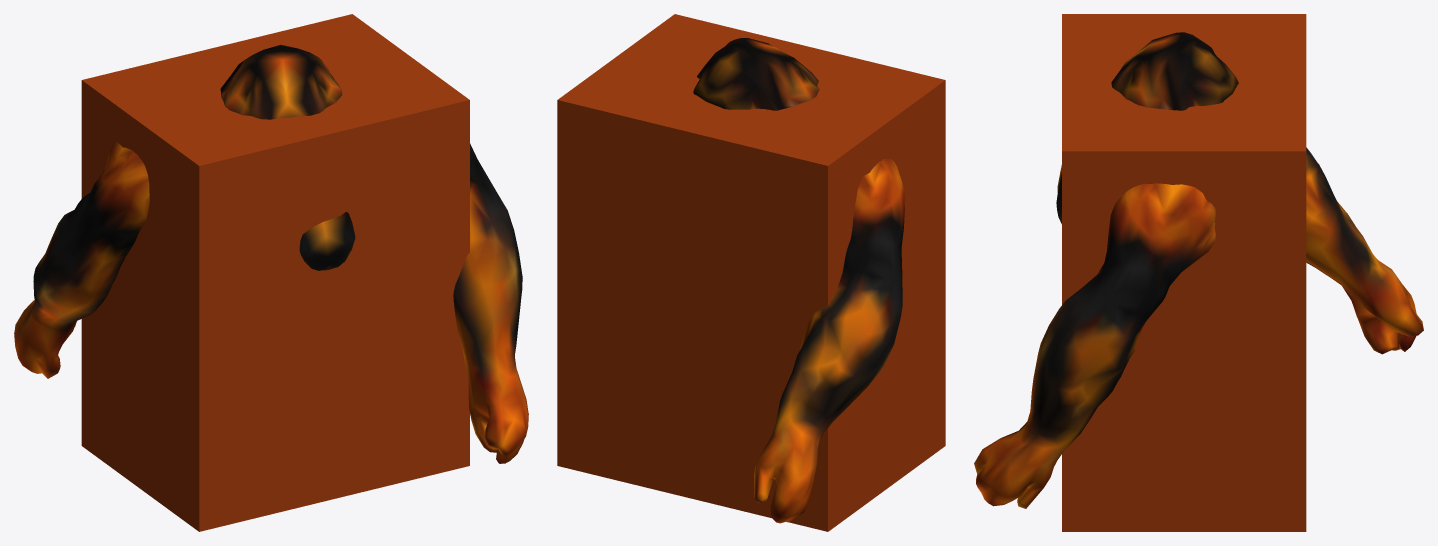
Rendered from MagmaElemental_1_000027.obj.
3 views of the same model, side by side, from view 1: azimuth 30°, elevation 25°; view 2: azimuth 150°, elevation 25°; view 3: azimuth 270°, elevation 25° (orthographic). The views are drawn at different scales.
Parts seen in each view (by area): view 1: Cube, Elemental_FireGolem; view 2: Cube, Elemental_FireGolem; view 3: Cube, Elemental_FireGolem.
Boxes of the visible parts, x1,y1,x2,y2 form: Cube: (81, 14, 469, 531); Elemental_FireGolem: (14, 44, 528, 463); Cube: (557, 14, 945, 531); Elemental_FireGolem: (693, 38, 904, 523); Cube: (1062, 14, 1306, 531); Elemental_FireGolem: (974, 32, 1423, 508).
Size of the model in its own units: 3.37 by 3.91 by 3.35.
Materials: 2 (1 with a texture image).
